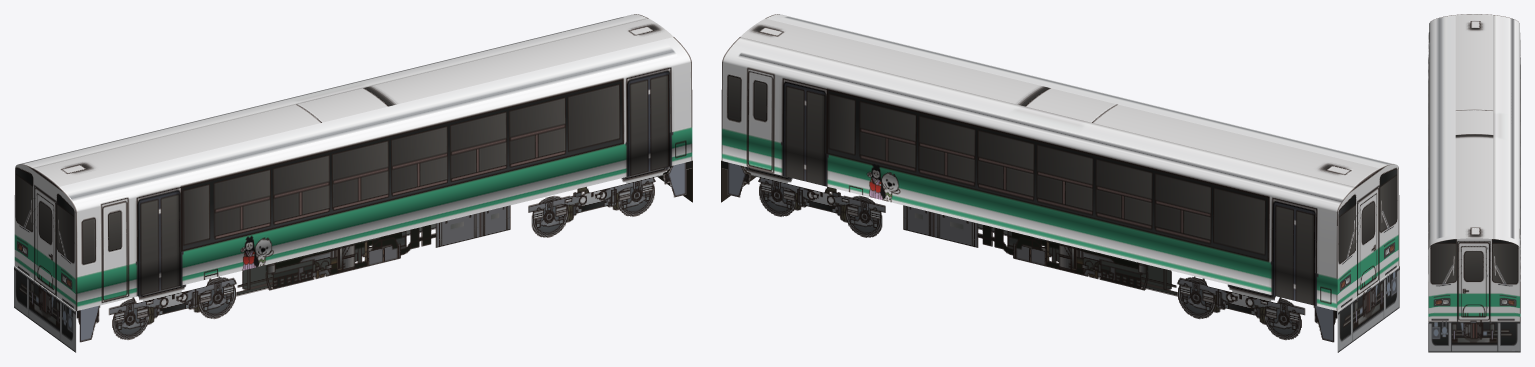
File: car1.glb
3 views of the same model, side by side, from view 1: azimuth 30°, elevation 25°; view 2: azimuth 150°, elevation 25°; view 3: azimuth 270°, elevation 25° (orthographic). The views are drawn at different scales.
Parts seen in each view (by area): view 1: kisyu-kr201; view 2: kisyu-kr201; view 3: kisyu-kr201.
Part boxes in pixels (<box>): kisyu-kr201: <box>14,14,692,352</box>; kisyu-kr201: <box>721,14,1399,352</box>; kisyu-kr201: <box>1428,14,1520,352</box>.
Size of the model in its own units: 15.53 by 3.69 by 2.7.
7 materials, 6 textured.
